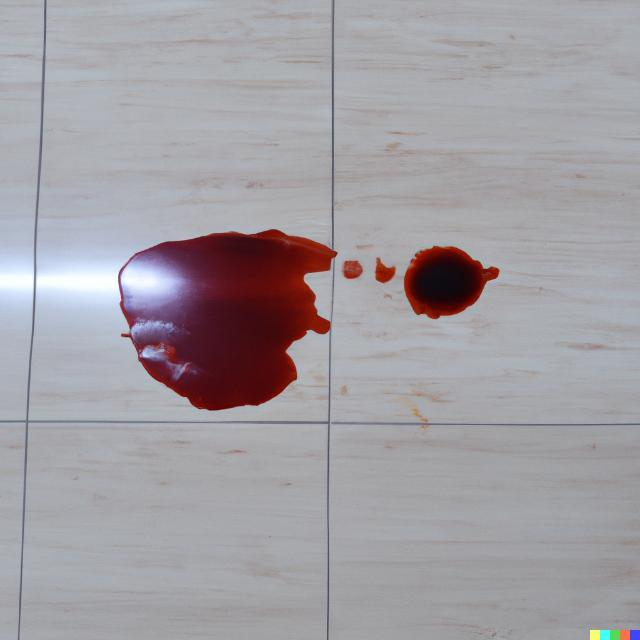blood: (118, 229, 338, 411), (403, 246, 500, 319), (375, 257, 396, 283), (341, 260, 363, 279)
